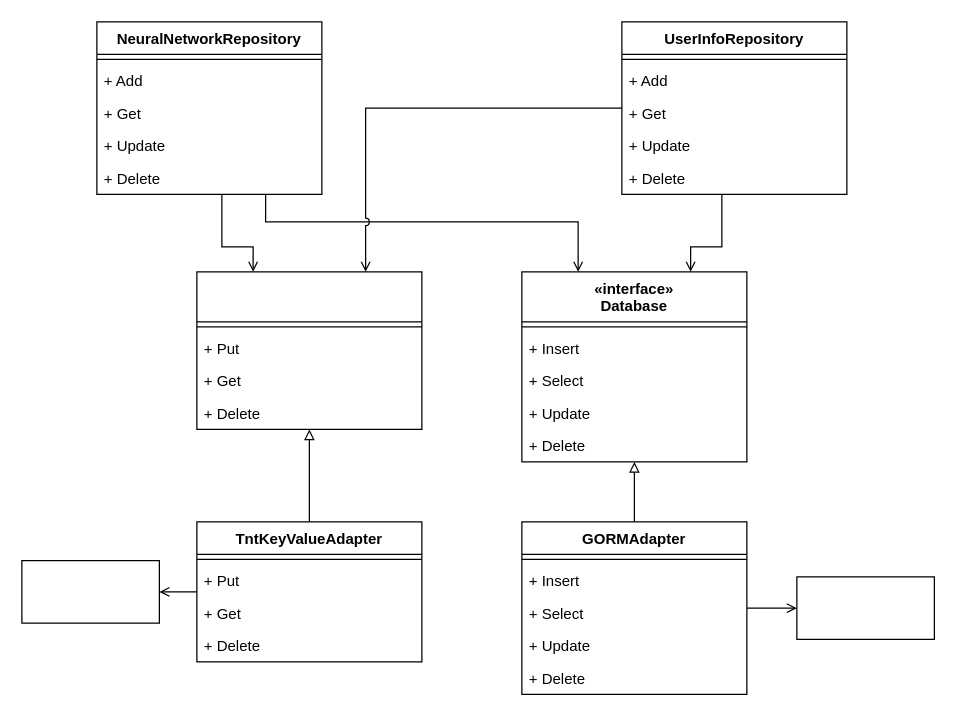
Some shapes in this 956 by 720 pixel diagram are drawn without their labels. The shapes that lost their labels are listed below. From the top down, each one's box as (x1, y1, x2, y2) in pixels, then its label:
(196, 271, 422, 429): «interface» KeyValue
(21, 559, 159, 623): TarantoolClient
(796, 576, 934, 639): GormDB
